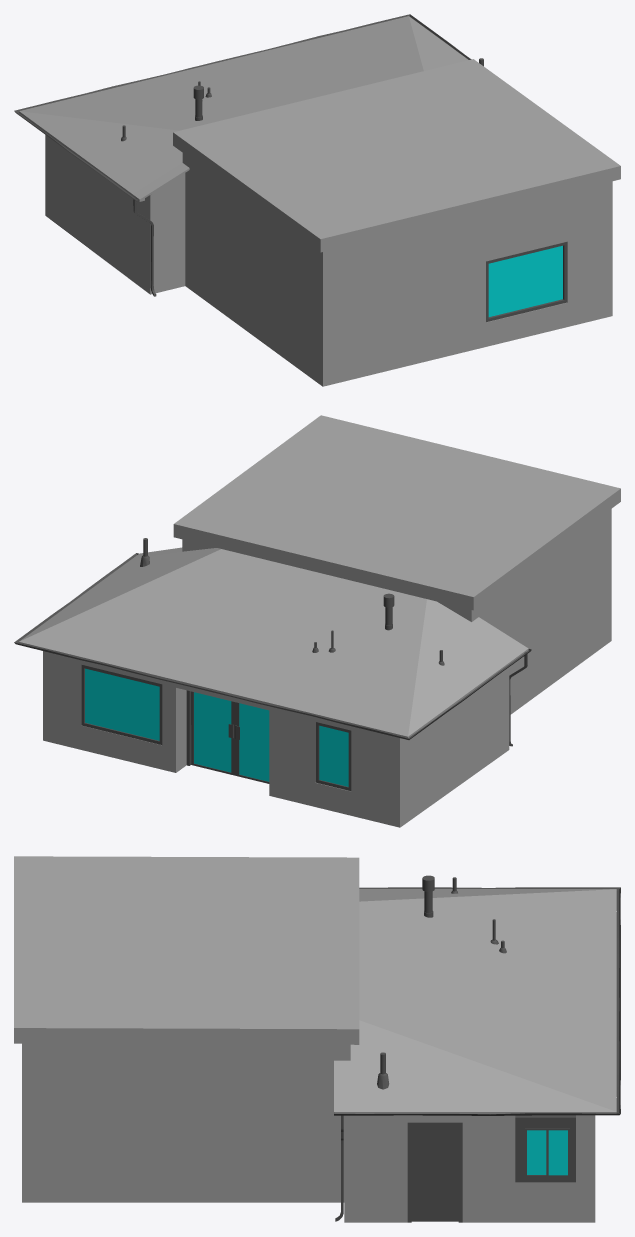
File: Gas Station V3.fbx
The picture shows the model from 3 angles, top to bottom: view 1: azimuth 30°, elevation 25°; view 2: azimuth 150°, elevation 25°; view 3: azimuth 270°, elevation 25°; orthographic projection. The views are drawn at different scales.
Parts seen in each view (by area): view 1: Building, Big_Roof, Small_Roof, Back_Window_Glass_Out, Gutters, Back_Window_Frame; view 2: Small_Roof, Big_Roof, Building, Large_Front_Window_Glass_Out, polySurface19, polySurface15, Gutters, Small_Front_Window_Glass_Out, Large_Front_Window_Frame, Small_Front_Window_Frame, Door_2; view 3: Building, Big_Roof, Small_Roof, Side_Door, polySurface1, Gutters, Side_Door_Frame, polySurface3, polySurface2.
Boxes of the visible parts, bbox=[...] form: Building: bbox=[45, 135, 612, 386]; Big_Roof: bbox=[173, 59, 620, 252]; Small_Roof: bbox=[19, 16, 468, 201]; Back_Window_Glass_Out: bbox=[488, 245, 562, 316]; Gutters: bbox=[14, 14, 471, 202]; Back_Window_Frame: bbox=[486, 242, 567, 322]; Small_Roof: bbox=[19, 547, 528, 738]; Big_Roof: bbox=[173, 415, 620, 610]; Building: bbox=[43, 509, 611, 827]; Large_Front_Window_Glass_Out: bbox=[85, 668, 159, 740]; polySurface19: bbox=[194, 692, 231, 772]; polySurface15: bbox=[239, 703, 269, 781]; Gutters: bbox=[14, 553, 531, 739]; Small_Front_Window_Glass_Out: bbox=[319, 725, 348, 786]; Large_Front_Window_Frame: bbox=[81, 664, 162, 744]; Small_Front_Window_Frame: bbox=[315, 722, 351, 790]; Door_2: bbox=[191, 691, 234, 775]; Building: bbox=[22, 1043, 595, 1222]; Big_Roof: bbox=[14, 856, 359, 1044]; Small_Roof: bbox=[334, 889, 616, 1114]; Side_Door: bbox=[411, 1126, 458, 1221]; polySurface1: bbox=[515, 1115, 575, 1182]; Gutters: bbox=[334, 887, 620, 1115]; Side_Door_Frame: bbox=[407, 1122, 462, 1222]; polySurface3: bbox=[548, 1130, 567, 1175]; polySurface2: bbox=[527, 1130, 546, 1174].
Size of the model in its own units: 408 by 157 by 462.
